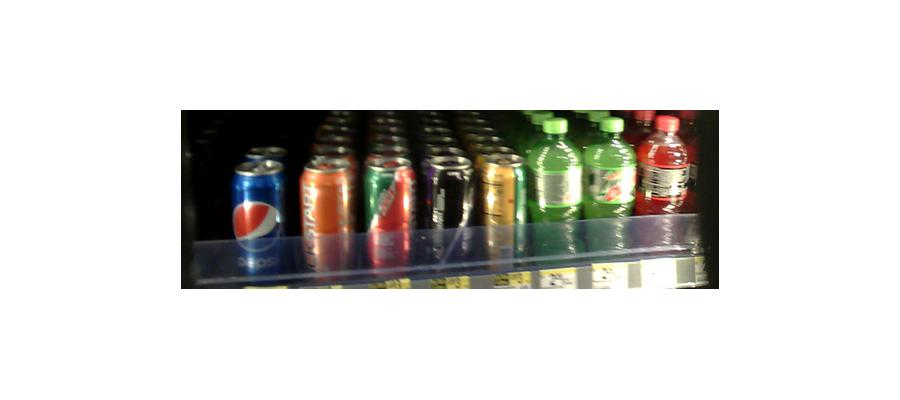bottle: (298, 140, 360, 275), (526, 113, 581, 265), (635, 112, 689, 252), (230, 152, 289, 277), (582, 112, 632, 256), (421, 148, 476, 272), (362, 143, 414, 271), (477, 145, 528, 269)
